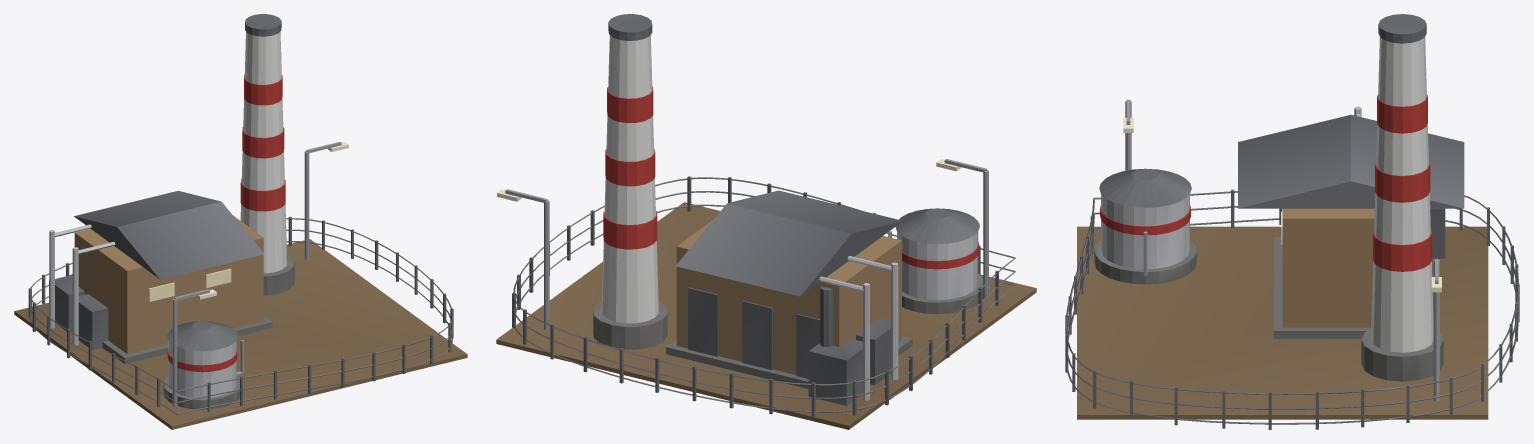
File: Power_P1.fbx
The picture shows the model from 3 angles, left to right: view 1: azimuth 30°, elevation 25°; view 2: azimuth 150°, elevation 25°; view 3: azimuth 270°, elevation 25°; orthographic projection. The views are drawn at different scales.
Visible parts, largest first — view 1: Power.Yard, Power.Hall, Power.Stack0, Power.Fence, Power.Tank0, Power.Switchyard, Power.Lamp1, Power.Lamp0; view 2: Power.Hall, Power.Yard, Power.Stack0, Power.Fence, Power.Tank0, Power.Switchyard, Power.Lamp1, Power.Lamp0; view 3: Power.Yard, Power.Hall, Power.Stack0, Power.Tank0, Power.Fence, Power.Lamp1, Power.Switchyard, Power.Lamp0.
Boxes of the visible parts, x1=… form: Power.Yard: x1=14, y1=239, x2=467, y2=429; Power.Hall: x1=74, y1=190, x2=272, y2=363; Power.Stack0: x1=240, y1=14, x2=294, y2=295; Power.Fence: x1=28, y1=216, x2=453, y2=414; Power.Tank0: x1=163, y1=321, x2=243, y2=409; Power.Switchyard: x1=49, y1=224, x2=115, y2=349; Power.Lamp1: x1=304, y1=141, x2=348, y2=259; Power.Lamp0: x1=172, y1=289, x2=216, y2=407; Power.Hall: x1=666, y1=190, x2=912, y2=388; Power.Yard: x1=496, y1=202, x2=1036, y2=429; Power.Stack0: x1=593, y1=14, x2=667, y2=349; Power.Fence: x1=512, y1=176, x2=1015, y2=417; Power.Tank0: x1=888, y1=208, x2=983, y2=314; Power.Switchyard: x1=808, y1=256, x2=898, y2=405; Power.Lamp1: x1=497, y1=189, x2=549, y2=329; Power.Lamp0: x1=936, y1=159, x2=988, y2=299; Power.Yard: x1=1077, y1=226, x2=1488, y2=419; Power.Hall: x1=1238, y1=114, x2=1464, y2=338; Power.Stack0: x1=1361, y1=14, x2=1443, y2=381; Power.Tank0: x1=1094, y1=168, x2=1196, y2=284; Power.Fence: x1=1065, y1=189, x2=1519, y2=429; Power.Lamp1: x1=1431, y1=259, x2=1441, y2=401; Power.Switchyard: x1=1354, y1=106, x2=1445, y2=258; Power.Lamp0: x1=1123, y1=99, x2=1133, y2=170.
Bounding box in the file's own units: 2895 × 2221 × 2653.
